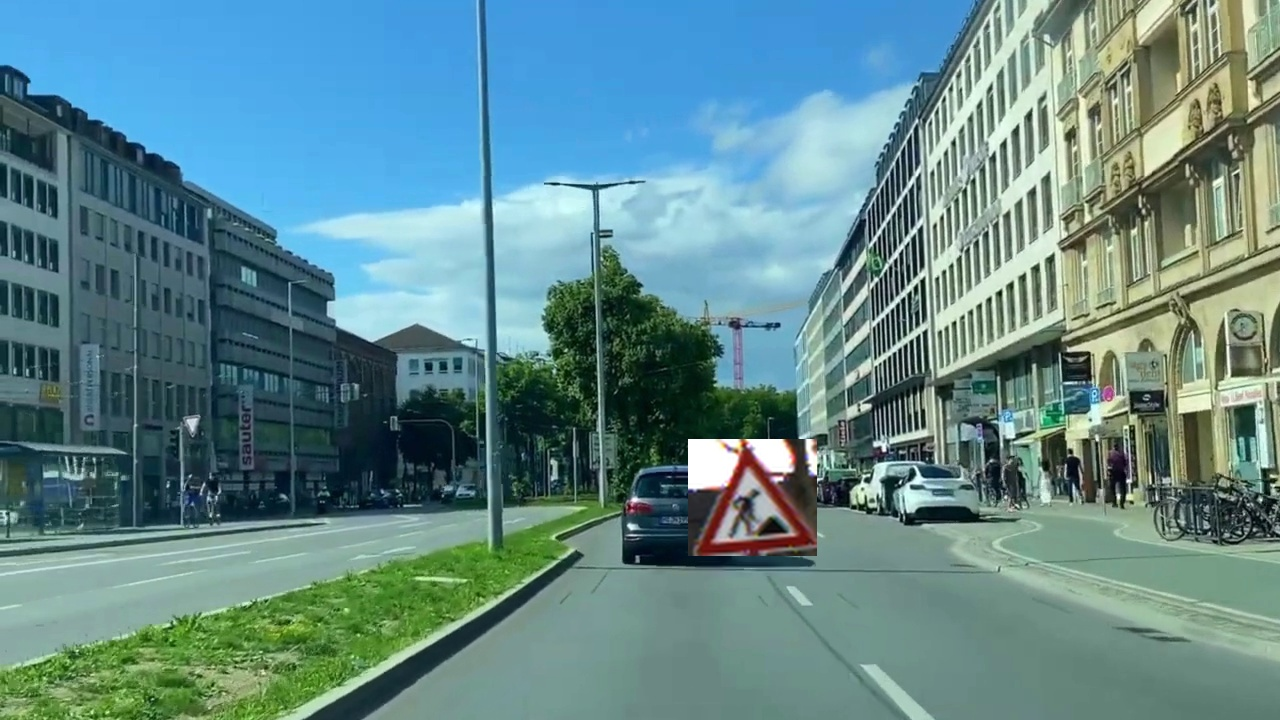Road work: (688, 439, 817, 556)
